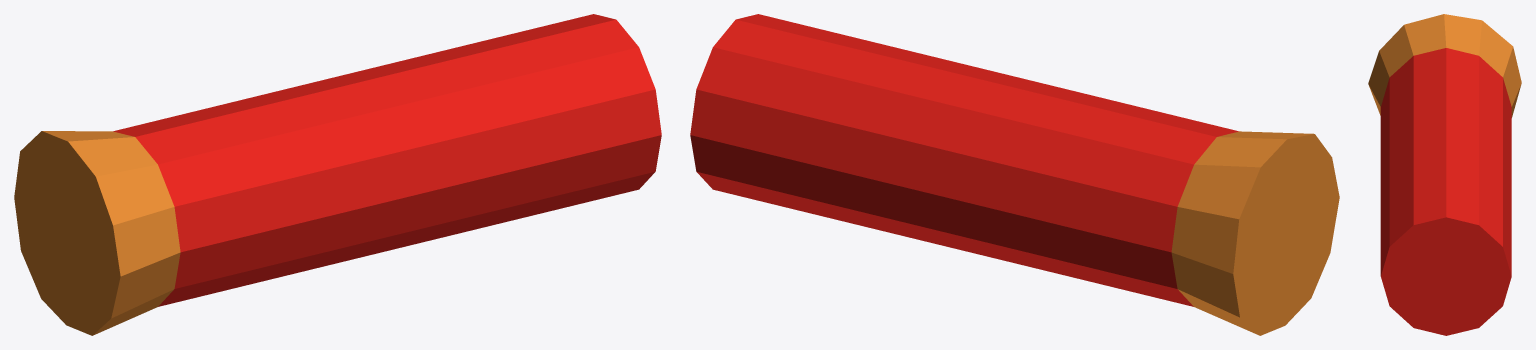
The model's file is Shell.fbx.
3 renders of one model, left to right at view 1: azimuth 30°, elevation 25°; view 2: azimuth 150°, elevation 25°; view 3: azimuth 270°, elevation 25°, orthographic. The views are drawn at different scales.
Visible parts, largest first — view 1: Shell; view 2: Shell; view 3: Shell.
Boxes of the visible parts, x1,y1,x2,y2 form: Shell: (14,14,661,335); Shell: (690,14,1339,335); Shell: (1368,14,1521,335).
Bounding box in the file's own units: 7 × 2.25 × 2.35.
